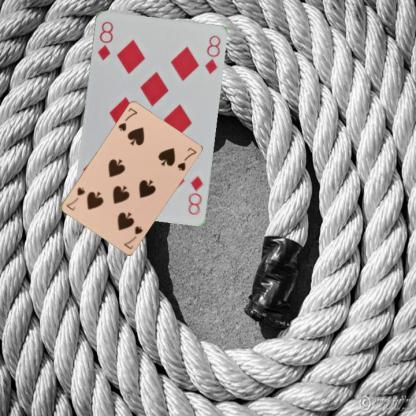7s: (116, 105, 139, 133), (121, 223, 144, 250)
8d: (95, 19, 114, 62), (185, 173, 204, 216)
